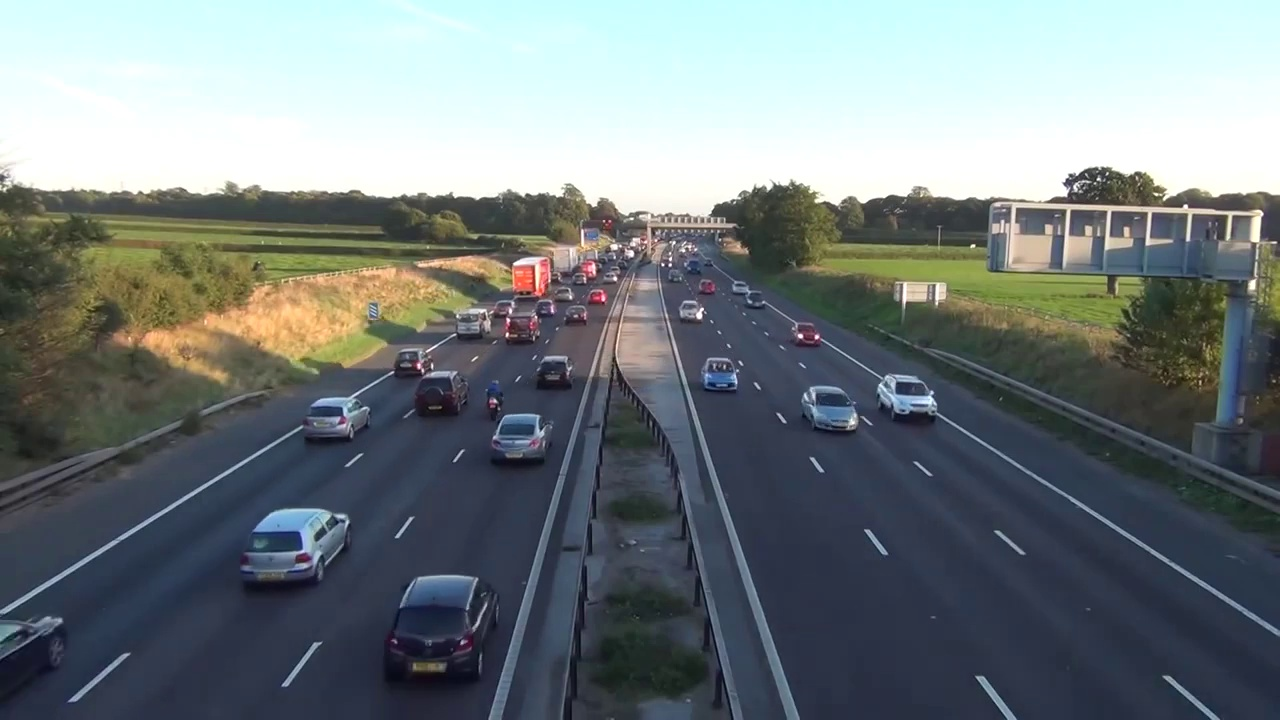bus: (379, 564, 509, 693), (230, 501, 359, 605), (4, 612, 69, 697), (872, 367, 943, 425), (486, 412, 556, 470), (295, 393, 373, 443), (801, 382, 860, 437), (416, 368, 472, 419), (695, 353, 742, 398), (533, 353, 575, 395), (393, 345, 433, 376), (789, 320, 824, 347), (676, 299, 704, 325), (492, 298, 520, 318), (744, 289, 768, 310), (563, 306, 588, 326), (586, 286, 607, 307), (554, 285, 577, 303), (535, 299, 555, 318), (730, 279, 750, 297), (698, 278, 717, 296), (571, 273, 589, 285), (668, 269, 683, 283), (603, 272, 618, 286), (551, 271, 563, 286), (700, 257, 716, 268), (659, 259, 673, 270), (608, 265, 621, 275), (615, 260, 627, 270), (595, 263, 603, 273)
car: (510, 254, 549, 300), (552, 246, 580, 274)
jeep: (479, 376, 509, 432)
lorry: (454, 308, 492, 341), (504, 313, 539, 343), (578, 253, 584, 268)
minibus: (580, 260, 597, 278), (687, 259, 702, 276)
